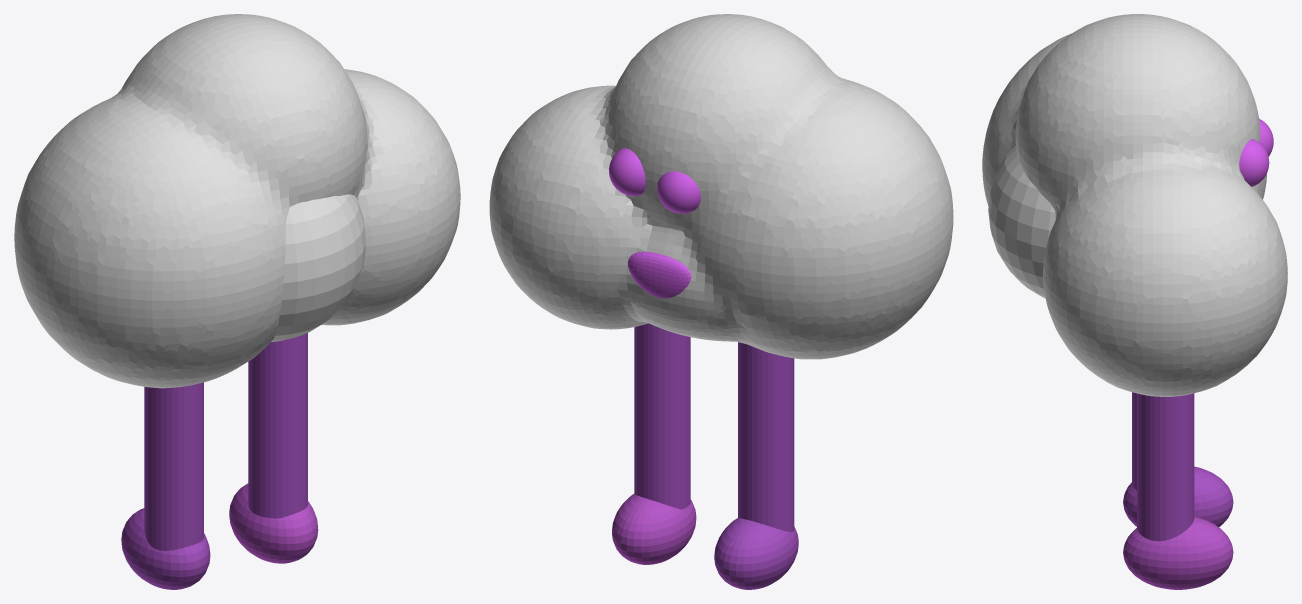
Rendered from nube_personaje.glb.
3 views of the same model, side by side, from view 1: azimuth 30°, elevation 25°; view 2: azimuth 150°, elevation 25°; view 3: azimuth 270°, elevation 25° (orthographic). The views are drawn at different scales.
Visible parts, largest first — view 1: Esfera.003; view 2: Esfera.003; view 3: Esfera.003.
Boxes of the visible parts, x1=… form: Esfera.003: x1=14, y1=14, x2=460, y2=589; Esfera.003: x1=489, y1=14, x2=953, y2=589; Esfera.003: x1=982, y1=14, x2=1287, y2=589.
Bounding box in the file's own units: 2.59 × 3.22 × 1.67.
